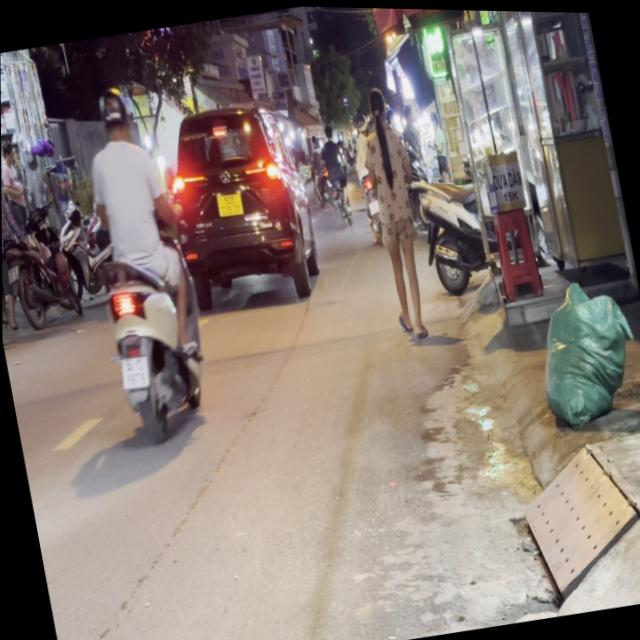helmet: (91, 82, 132, 143)
licenseplate: (57, 72, 222, 447)
nohelmet: (116, 351, 149, 387)
